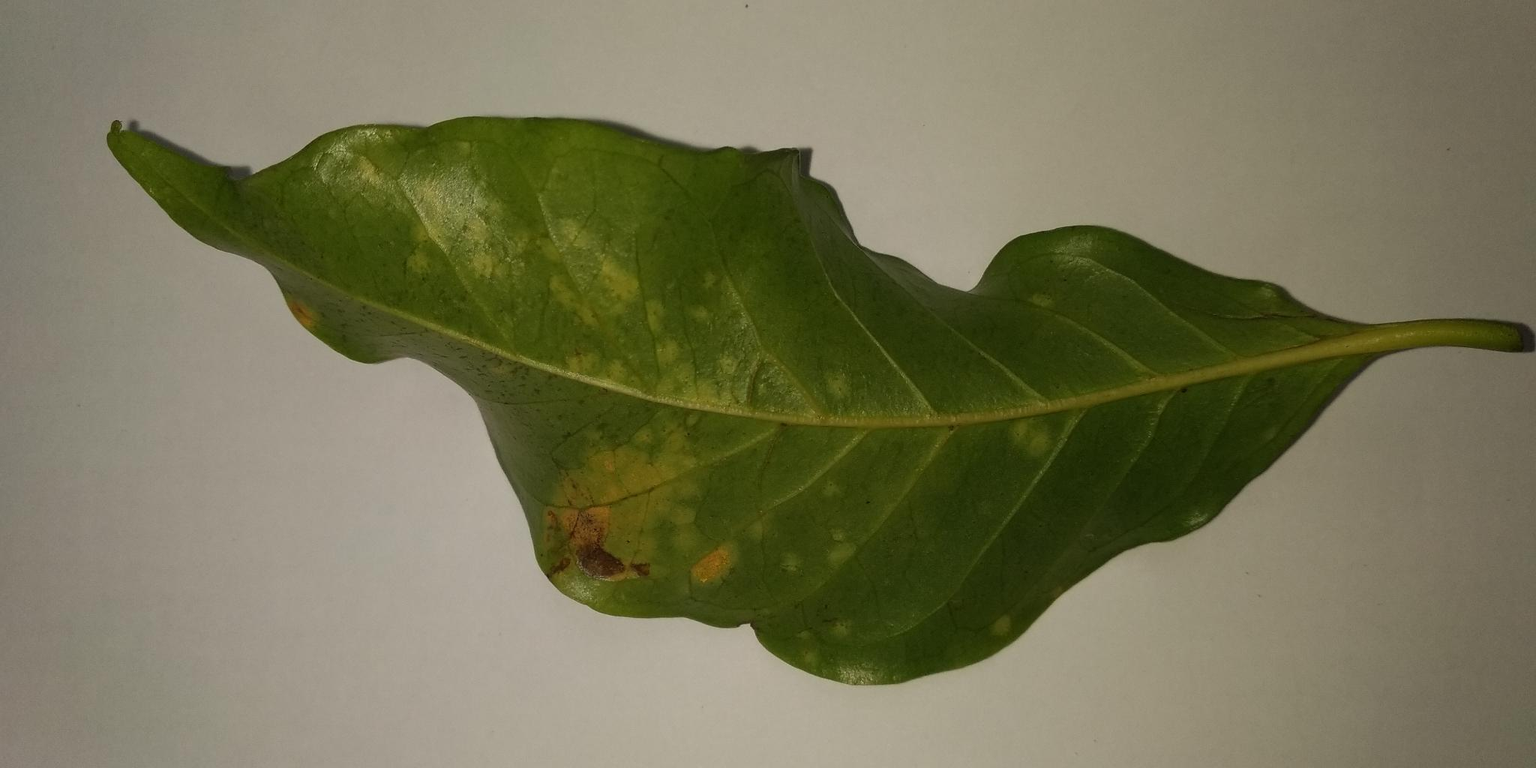Rust: (675, 531, 755, 597)
